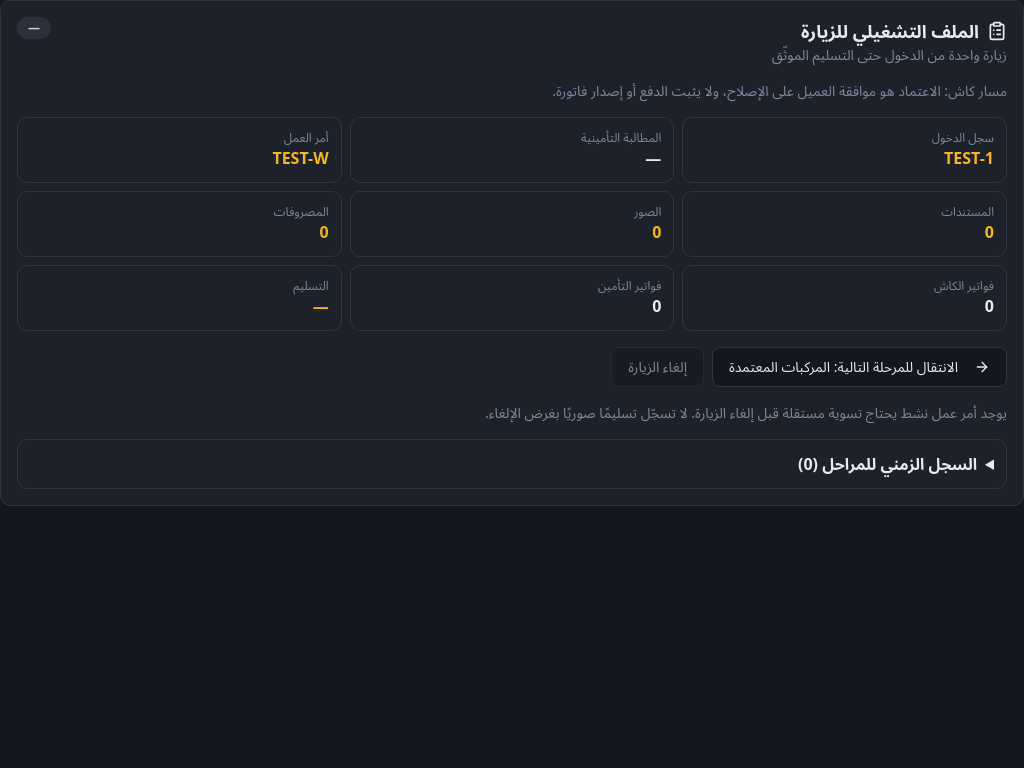
Test case: vehicle visit transition panel › requires explicit repair consent only for a cash work order and never labels it as payment
Click the button "الانتقال للمرحلة التالية: المركبات المعتمدة": x=860, y=367 [712, 347, 1007, 387]
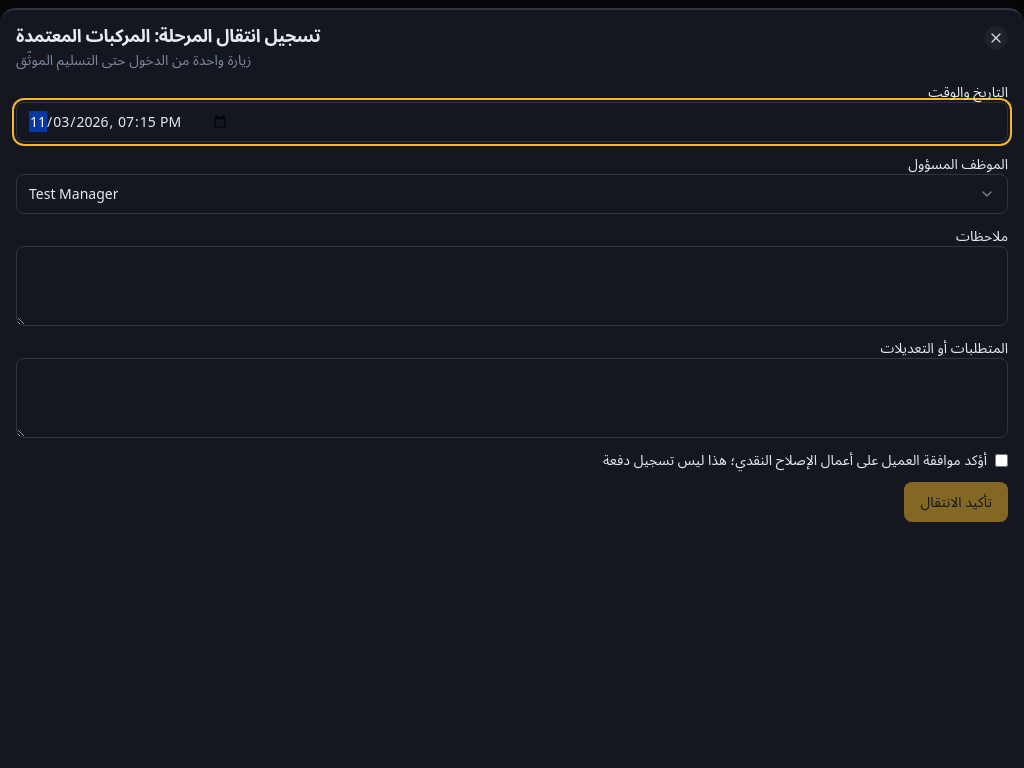
Expected: the button "تأكيد الانتقال" is disabled, [904, 482, 1008, 522]
Expected: the text "هذا ليس تسجيل دفعة" is shown, [603, 450, 987, 469]
Click the checkbox labelled "أؤكد موافقة العميل": x=1002, y=460 [995, 454, 1008, 466]
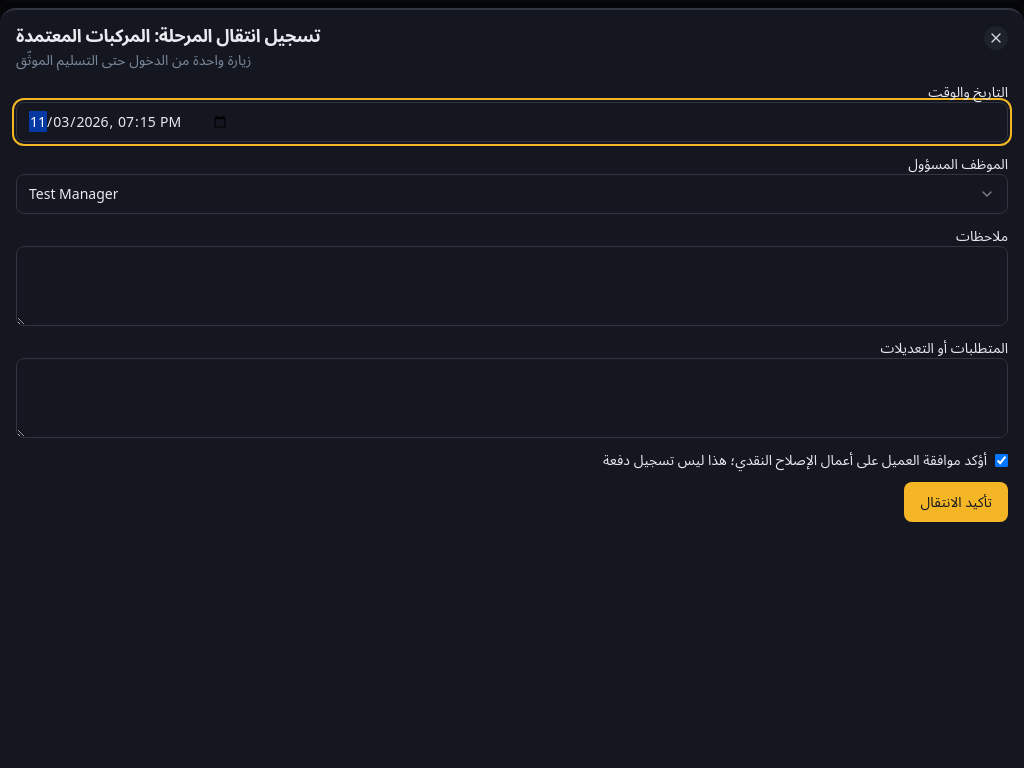
Expected: the button "تأكيد الانتقال" is enabled, [904, 482, 1008, 522]
